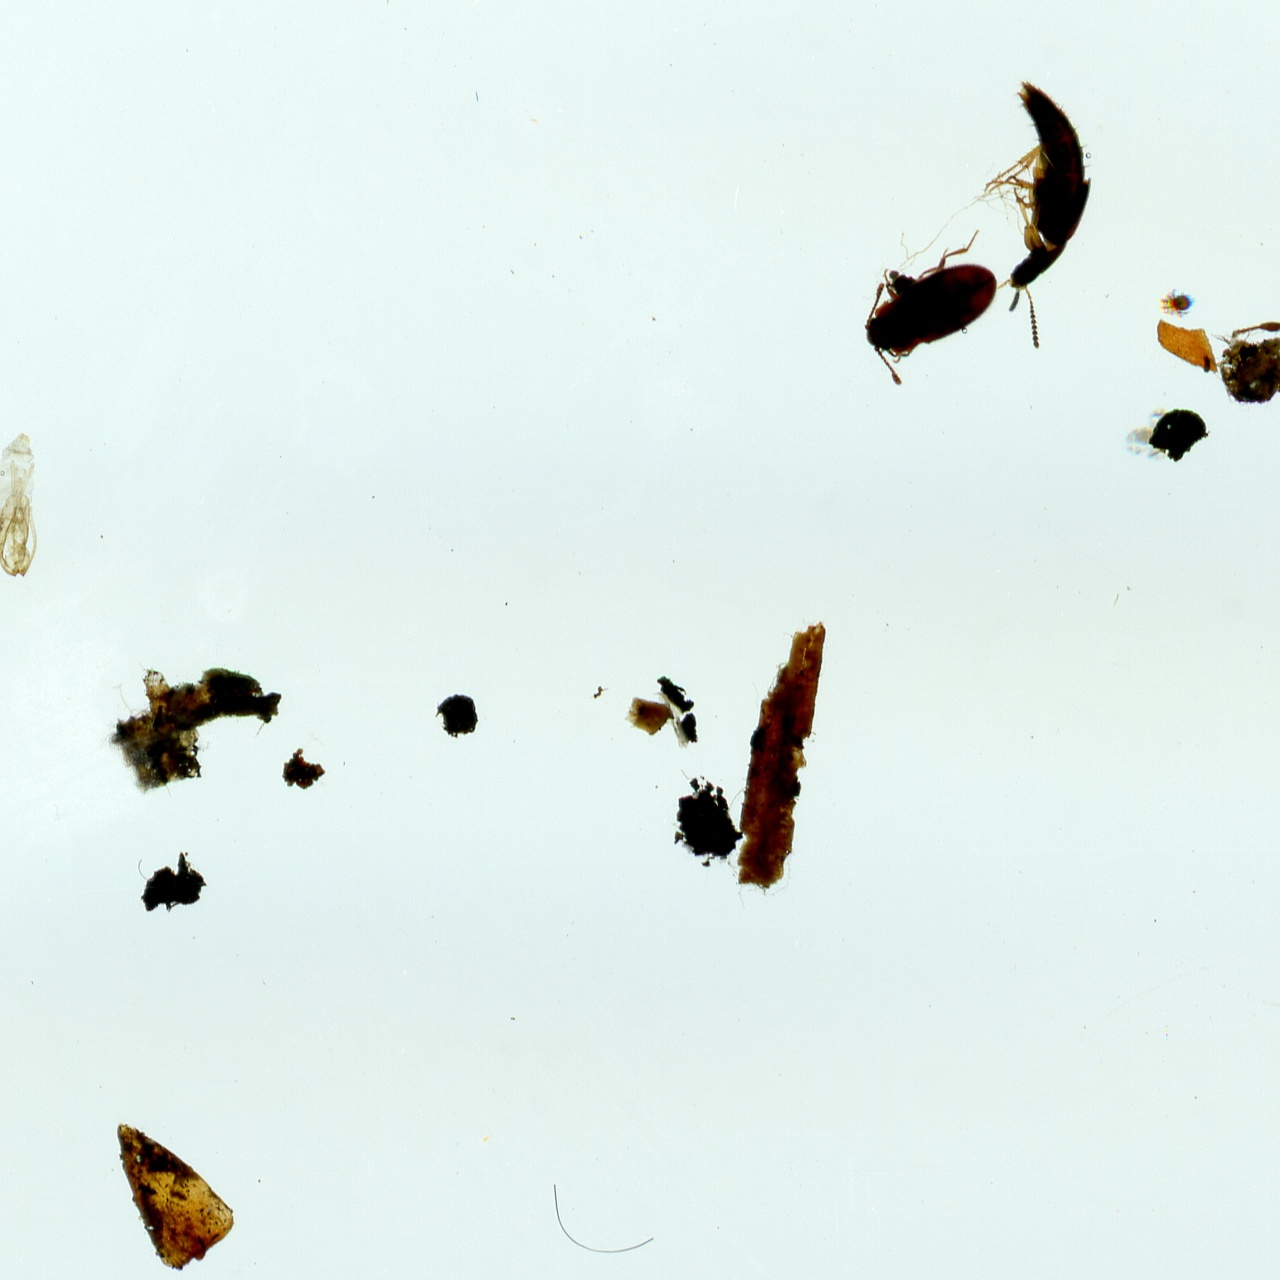arthropod: (831, 213, 1030, 396), (979, 76, 1094, 353), (1224, 161, 1280, 470), (0, 427, 48, 585), (1156, 286, 1198, 320)
